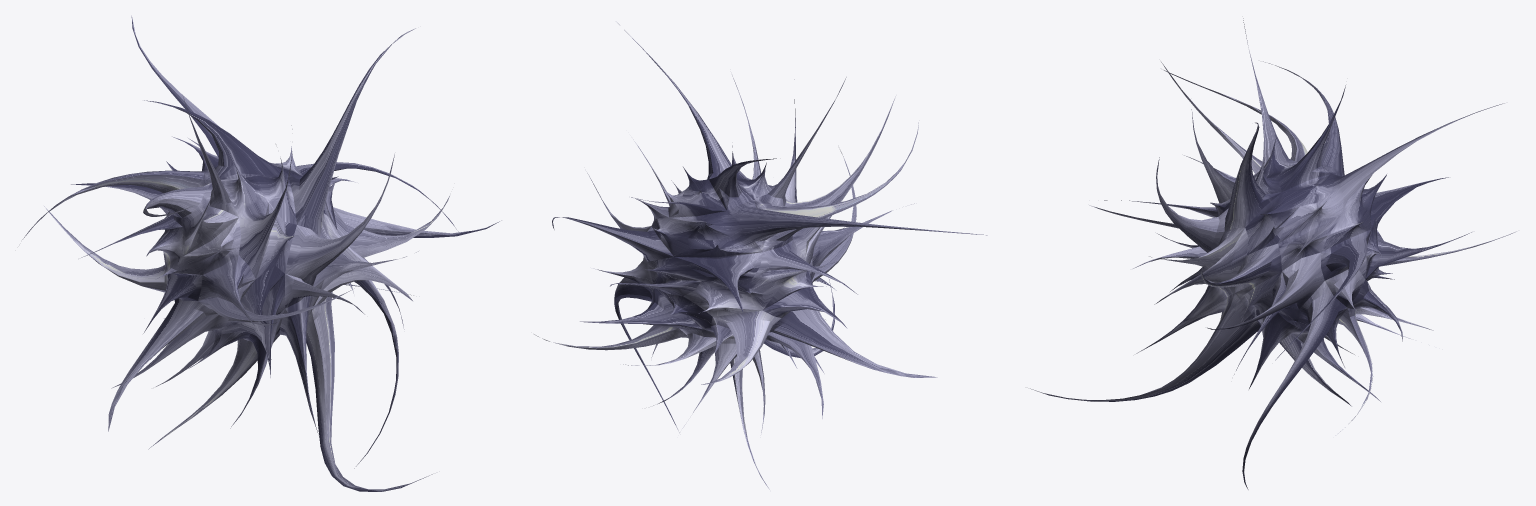
File: Taboo_Ball_16b.glb
3 views of the same model, side by side, from view 1: azimuth 30°, elevation 25°; view 2: azimuth 150°, elevation 25°; view 3: azimuth 270°, elevation 25° (orthographic). The views are drawn at different scales.
Visible parts, largest first — view 1: Subdivision Surface; view 2: Subdivision Surface; view 3: Subdivision Surface.
Boxes of the visible parts, bbox=[...] form: Subdivision Surface: bbox=[22, 15, 501, 491]; Subdivision Surface: bbox=[534, 21, 987, 489]; Subdivision Surface: bbox=[1030, 18, 1516, 489].
Bounding box in the file's own units: 579 × 515 × 580.
Materials: 1 (1 with a texture image).
